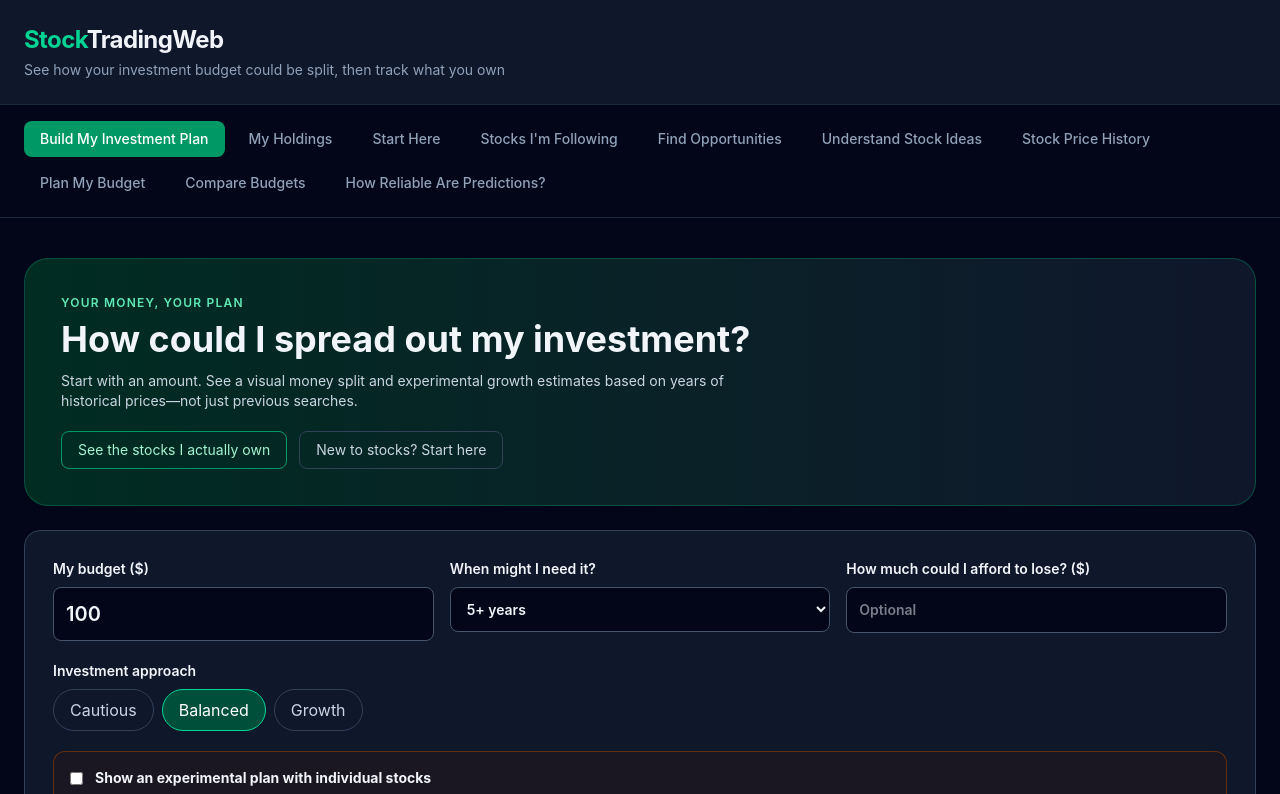
Test: Application shell › navigates to the manual holdings page
The image size is (1280, 794).
Click the link "My Holdings".
click(290, 138)  # box [248,130,332,147]
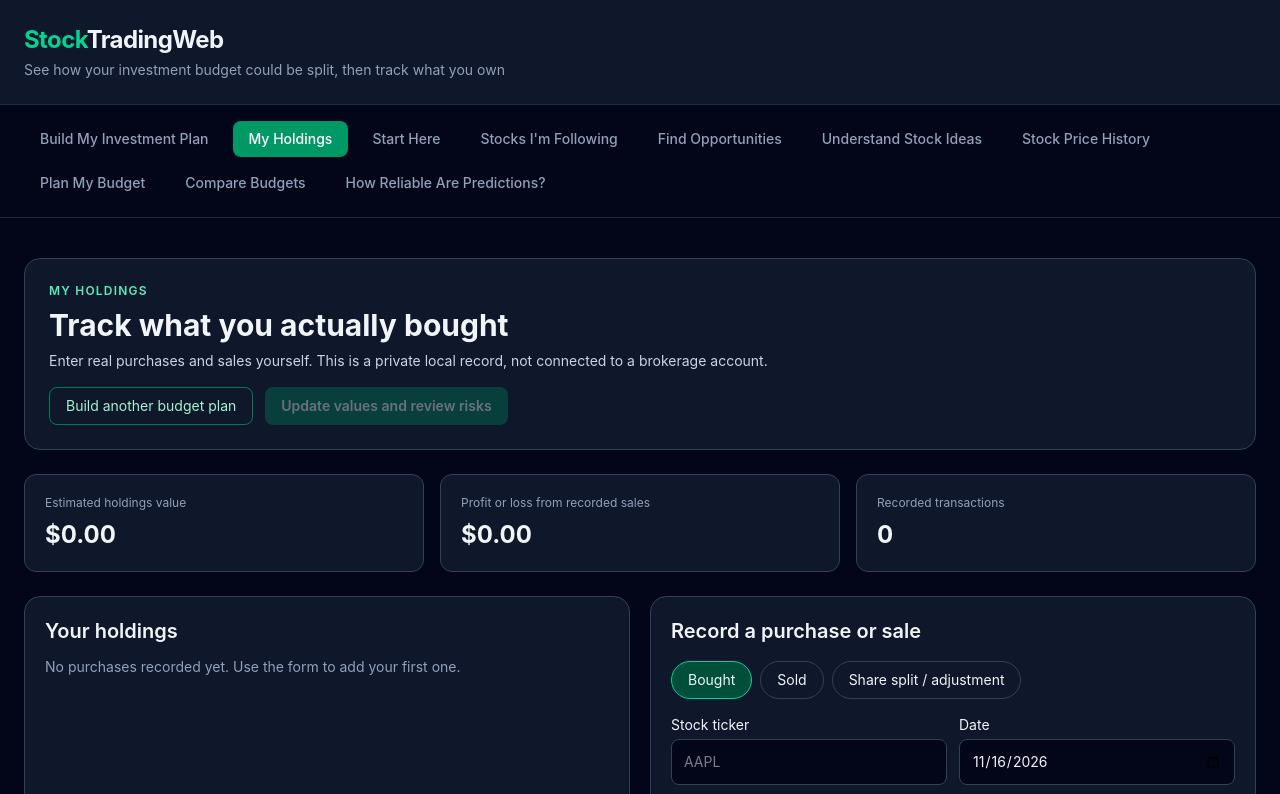
Result: the heading "Track what you actually bought" is shown at [49,307,509,343]
Result: the heading "Record a purchase or sale" is shown at [671,619,921,643]
